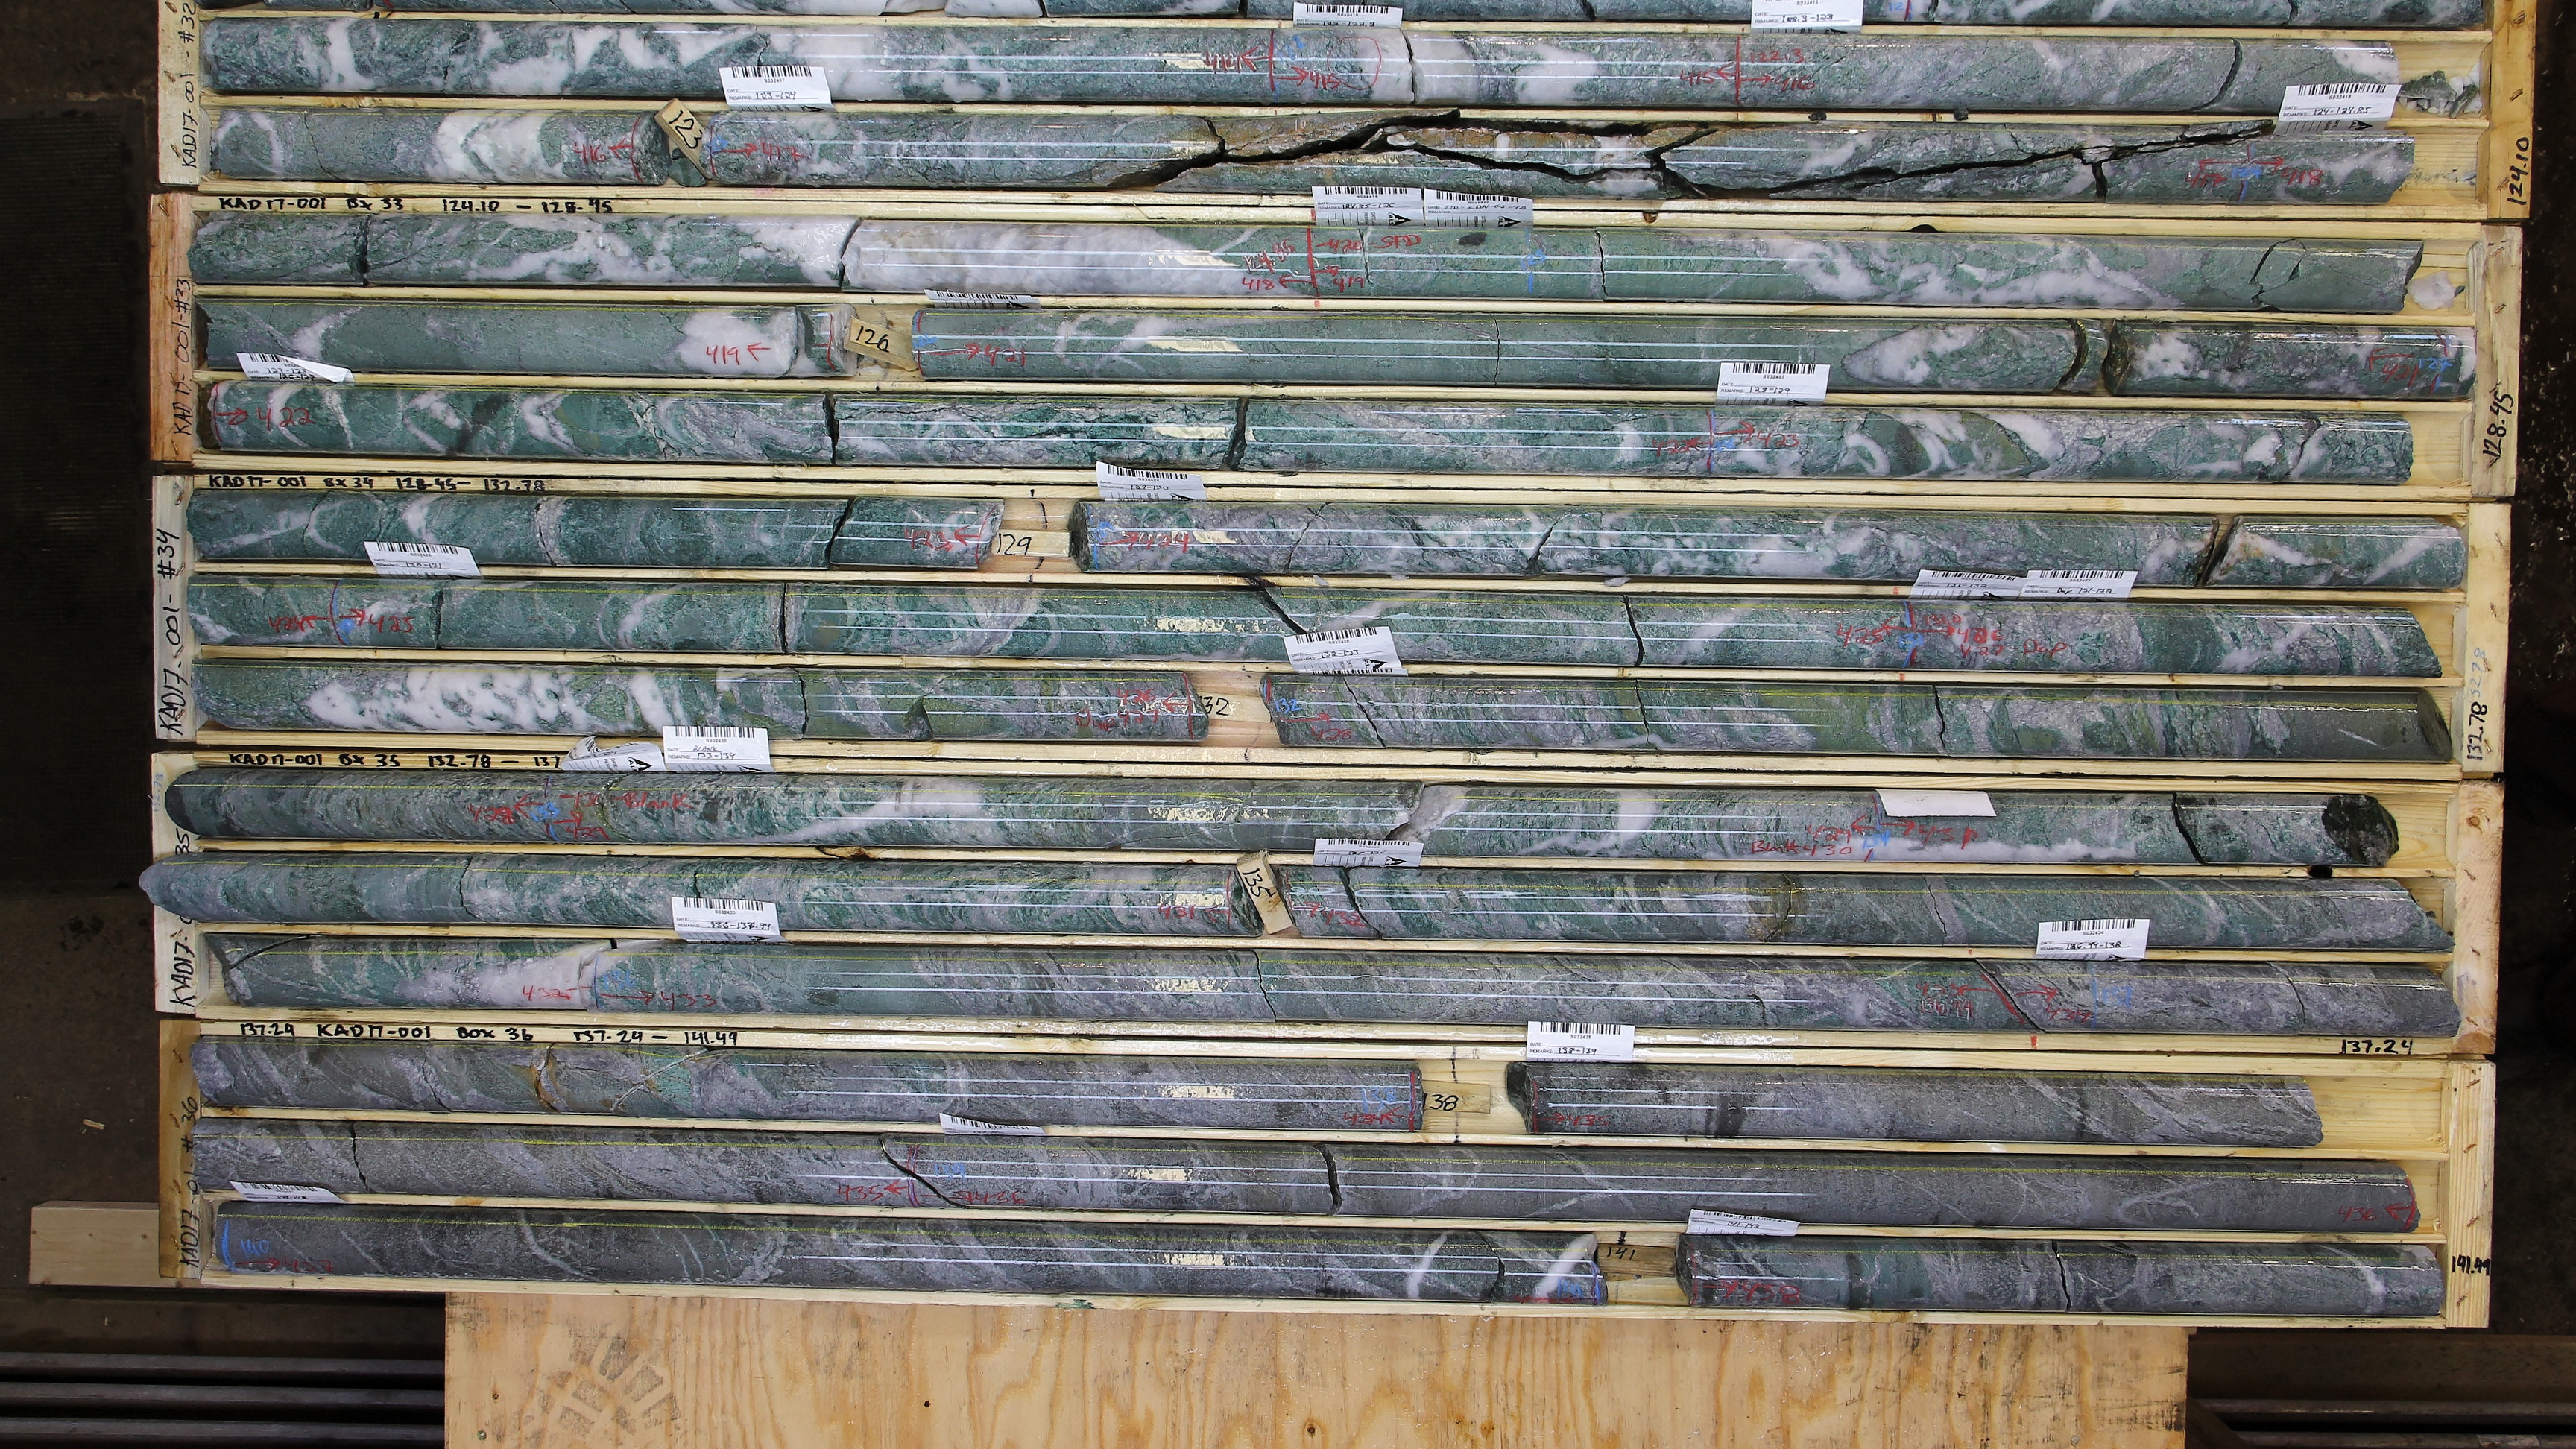rock-KAD17_001-121x-122: (204, 23, 1273, 95)
rock-KAD17_001-122-122x: (1276, 35, 2401, 105)
rock-KAD17_001-122x-123: (215, 113, 651, 182)
rock-KAD17_001-123-124: (714, 116, 2242, 199)
rock-KAD17_001-124-124x: (2246, 131, 2413, 203)
rock-KAD17_001-124x-125: (197, 215, 1530, 293)
rock-KAD17_001-125-125x: (1536, 227, 2414, 310)
rock-KAD17_001-125x-126: (200, 302, 842, 373)
rock-KAD17_001-126-127: (920, 315, 2472, 394)
rock-KAD17_001-127-128: (212, 387, 1708, 471)
rock-KAD17_001-128-128x: (1716, 409, 2413, 483)
rock-KAD17_001-128x-129: (195, 494, 979, 568)
rock-KAD17_001-129-129x: (1085, 502, 2463, 587)
rock-KAD17_001-129x-130: (192, 578, 337, 643)
rock-KAD17_001-130-131: (341, 581, 1911, 666)
rock-KAD17_001-131-131x: (1919, 602, 2437, 675)
rock-KAD17_001-131x-132: (203, 660, 1193, 739)
rock-KAD17_001-132-132x: (1271, 681, 2447, 757)
rock-KAD17_001-132x-133: (195, 771, 550, 840)
rock-KAD17_001-133-134: (552, 776, 1877, 855)
rock-KAD17_001-134-134x: (1881, 792, 2402, 864)
rock-KAD17_001-134x-135: (198, 855, 1234, 932)
rock-KAD17_001-135-135x: (1287, 866, 2438, 953)
rock-KAD17_001-135x-136: (206, 936, 595, 1008)
rock-KAD17_001-136-137: (598, 944, 2100, 1028)
rock-KAD17_001-137-137x: (2104, 962, 2448, 1032)
rock-KAD17_001-137x-138: (204, 1042, 1417, 1130)
rock-KAD17_001-138-138x: (1527, 1064, 2318, 1144)
rock-KAD17_001-138x-139: (201, 1125, 938, 1202)
rock-KAD17_001-139-140: (942, 1144, 2427, 1228)
rock-KAD17_001-140-141: (222, 1210, 1598, 1299)
rock-KAD17_001-141-141.49: (1694, 1238, 2440, 1316)
